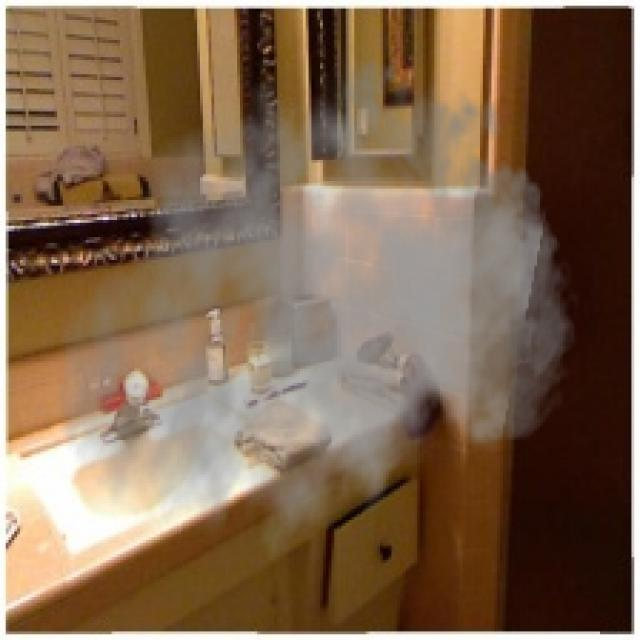smoke: (54, 37, 583, 583)
